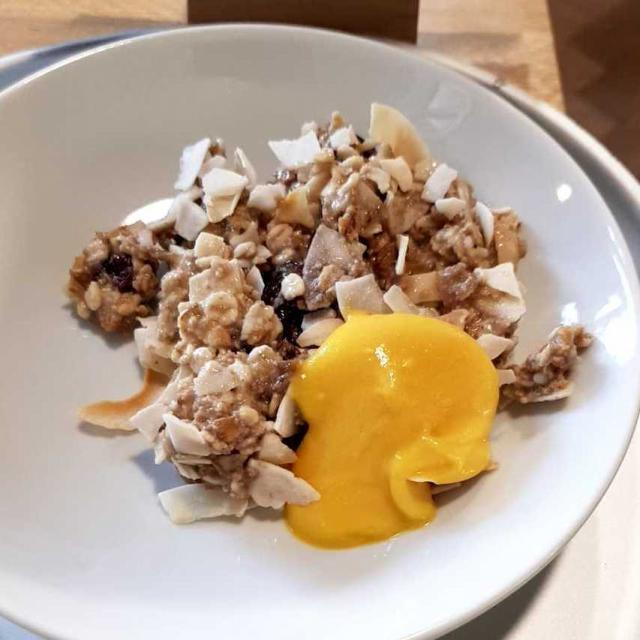coconut: (156, 98, 532, 373)
jam: (265, 304, 495, 533)
oats: (18, 114, 542, 555)
